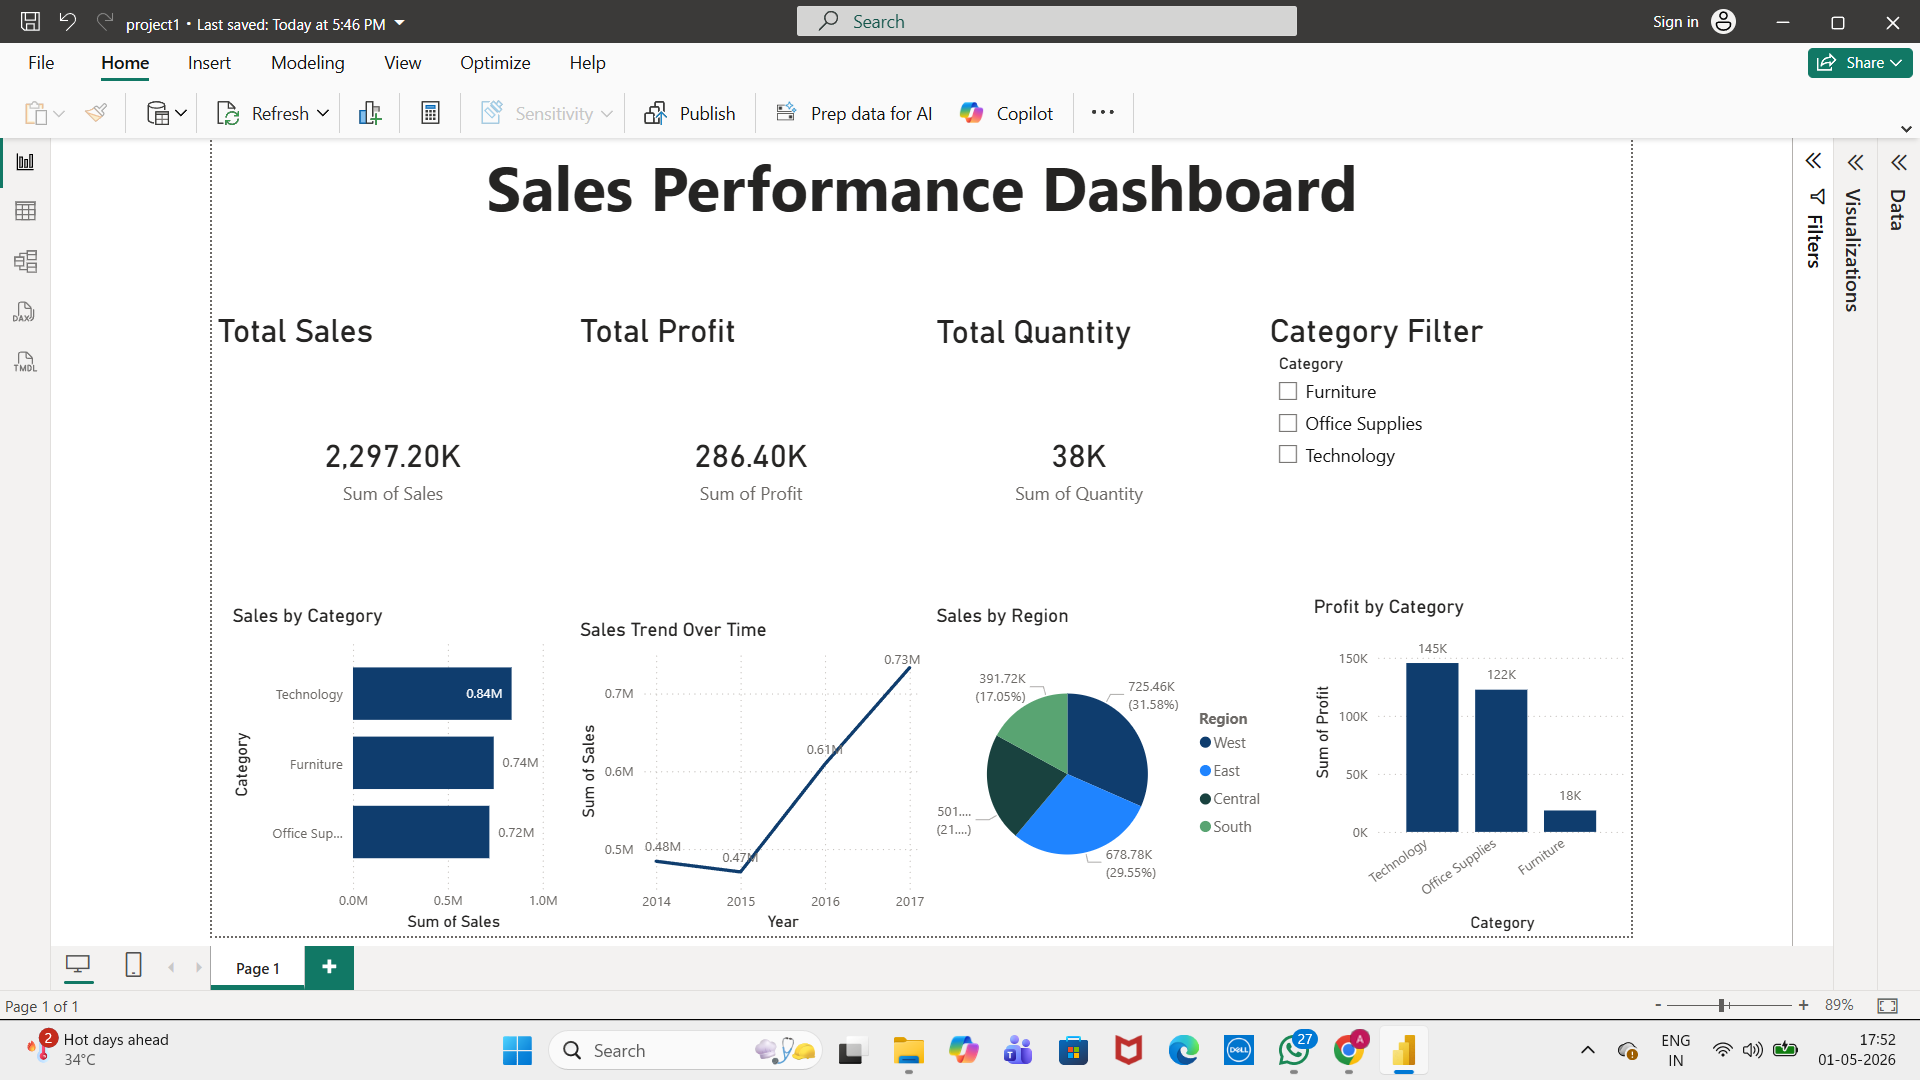

The dashboard page shown, as its layout file describes it:
{"tool":"powerbi","page":{"name":"Page 1","canvas":[1280,720],"ordinal":0},"visuals":[{"type":"card","title":"Total Sales","fields":{"Values":["Sum(Orders.Sales)"]},"box":[0,156.7,326.9,245.7],"z":0},{"type":"card","title":"Total Profit","fields":{"Values":["Sum(Orders.Profit)"]},"box":[326.9,156.7,319,245.7],"z":1000},{"type":"card","title":"Total Quantity","fields":{"Values":["Sum(Orders$FilterDatabase.Quantity)"]},"box":[648,158,267.8,243.7],"z":2000},{"type":"clusteredBarChart","title":"Sales by Category","fields":{"Category":["Orders.Category"],"Y":["Sum(Orders.Sales)"]},"box":[13.5,420.7,314.3,299.6],"z":3000},{"type":"lineChart","title":"Sales Trend Over Time","fields":{"Category":["Orders.Order Date.Variation.Date Hierarchy.Year","Orders.Order Date.Variation.Date Hierarchy.Quarter","Orders.Order Date.Variation.Date Hierarchy.Month","Orders.Order Date.Variation.Date Hierarchy.Day"],"Y":["Sum(Orders.Sales)"]},"box":[326.5,432.9,320.4,287.4],"z":4000},{"type":"pieChart","title":"Sales by Region","fields":{"Category":["Orders.Region"],"Y":["Sum(Orders.Sales)"]},"box":[648.1,420.7,311.8,287.4],"z":5000},{"type":"slicer","title":"Category Filter","fields":{"Values":["Orders.Category"]},"box":[949,156.7,331.4,245.7],"z":6000},{"type":"textbox","box":[0,0,1280.4,109.3],"z":7000},{"type":"clusteredColumnChart","title":"Profit by Category","fields":{"Category":["Orders.Category"],"Y":["Sum(Orders.Profit)"]},"box":[988,412.1,292.3,308.2],"z":8000}]}

Visuals, with their boxes on the page's 1280x720 design canvas (x1, y1, x2, y2). These are canvas units, not pixel positions in the 1920x1080 screenshot, which may show the page scaled, cropped or inside an application window:
"Total Sales" card: x1=0, y1=157, x2=327, y2=402
"Total Profit" card: x1=327, y1=157, x2=646, y2=402
"Total Quantity" card: x1=648, y1=158, x2=916, y2=402
"Sales by Category" clusteredBarChart: x1=14, y1=421, x2=328, y2=720
"Sales Trend Over Time" lineChart: x1=326, y1=433, x2=647, y2=720
"Sales by Region" pieChart: x1=648, y1=421, x2=960, y2=708
"Category Filter" slicer: x1=949, y1=157, x2=1280, y2=402
textbox: x1=0, y1=0, x2=1280, y2=109
"Profit by Category" clusteredColumnChart: x1=988, y1=412, x2=1280, y2=720
